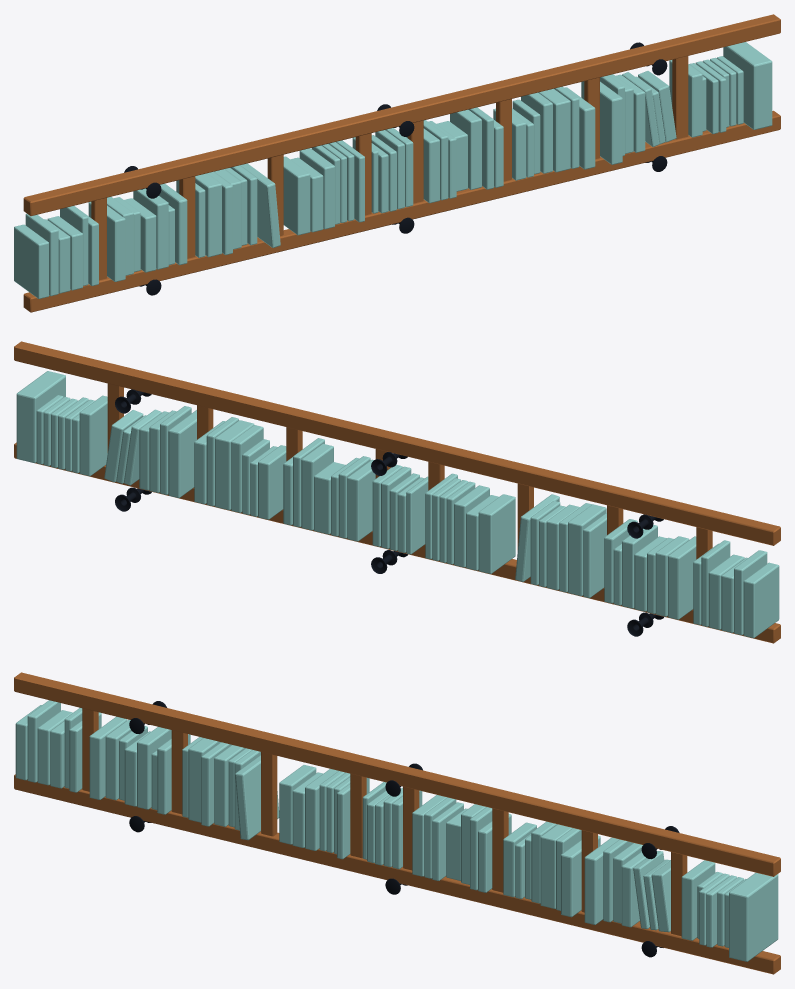
The model's file is House_Bookshelf.FBX.
3 views of the same model, one above another, from view 1: azimuth 30°, elevation 25°; view 2: azimuth 150°, elevation 25°; view 3: azimuth 330°, elevation 25° (orthographic).
Visible parts, largest first — view 1: House_Bookshelf_Books, House_Bookshelf_Wood, House_Bookshelf_Black; view 2: House_Bookshelf_Books, House_Bookshelf_Wood, House_Bookshelf_Black; view 3: House_Bookshelf_Books, House_Bookshelf_Wood, House_Bookshelf_Black.
Part boxes in pixels (bbox=[...]): House_Bookshelf_Books: bbox=[14, 42, 772, 298]; House_Bookshelf_Wood: bbox=[23, 14, 780, 312]; House_Bookshelf_Black: bbox=[124, 42, 667, 295]; House_Bookshelf_Books: bbox=[16, 371, 779, 638]; House_Bookshelf_Wood: bbox=[14, 341, 780, 643]; House_Bookshelf_Black: bbox=[115, 389, 663, 636]; House_Bookshelf_Books: bbox=[15, 700, 778, 961]; House_Bookshelf_Wood: bbox=[14, 672, 780, 974]; House_Bookshelf_Black: bbox=[129, 701, 679, 957].
Bounding box in the file's own units: 298 × 46.51 × 21.77.
